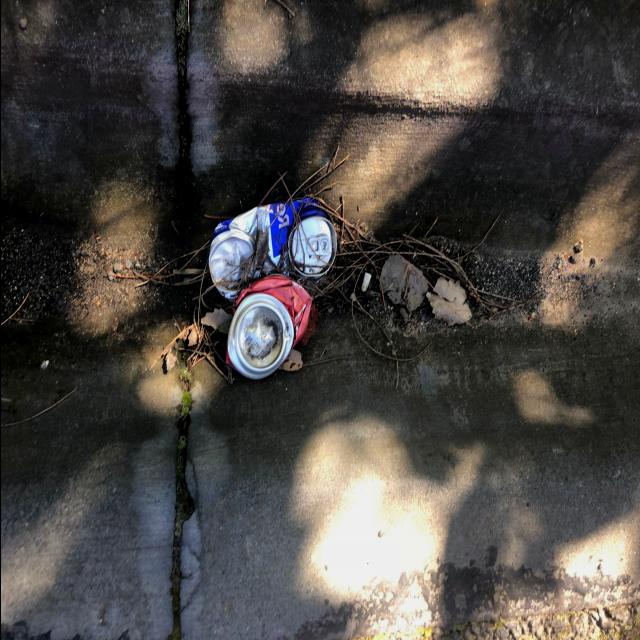Cigarette: (360, 272, 370, 291)
Drink can: (208, 197, 336, 302), (225, 274, 311, 379)
Pop tab: (306, 236, 329, 256)
